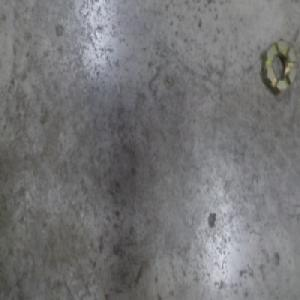Nut: (261, 35, 298, 98)
